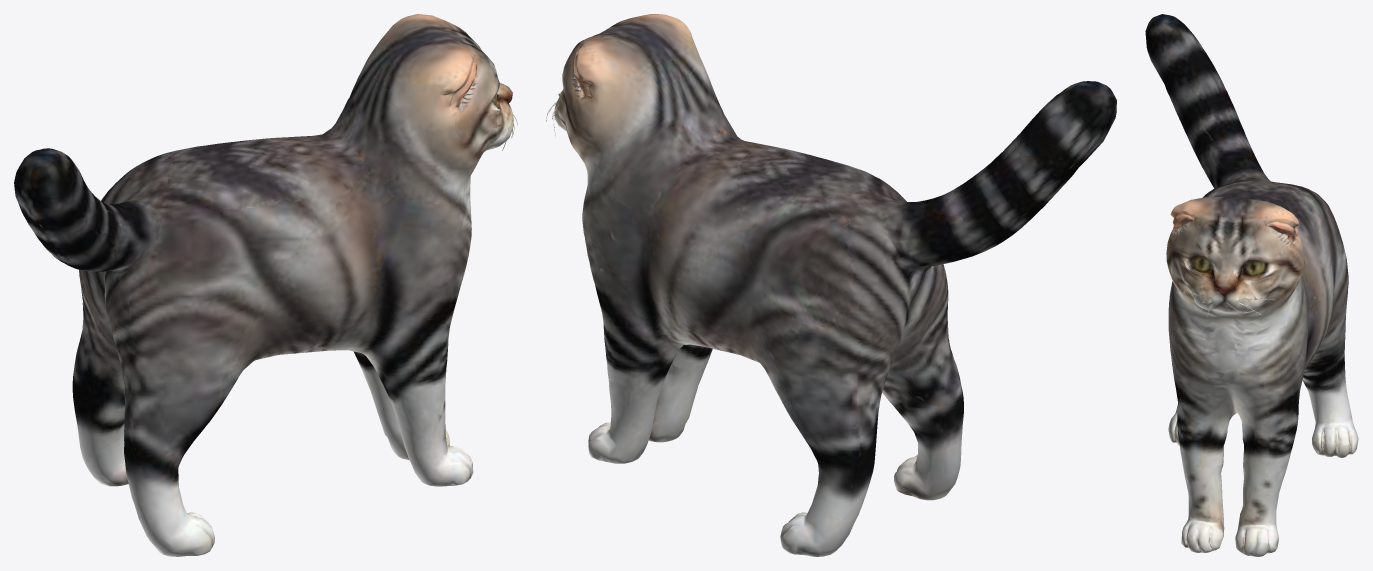
The model's file is MEREDITCAT-lo.glb.
The picture shows the model from 3 angles, left to right: view 1: azimuth 30°, elevation 25°; view 2: azimuth 150°, elevation 25°; view 3: azimuth 270°, elevation 25°; orthographic projection. The views are drawn at different scales.
Parts seen in each view (by area): view 1: fit; view 2: fit; view 3: fit.
Boxes of the visible parts, x1=… form: fit: x1=14, y1=14, x2=517, y2=556; fit: x1=546, y1=14, x2=1116, y2=556; fit: x1=1145, y1=14, x2=1358, y2=556.
Size of the model in its own units: 1.23 by 0.9969 by 0.533.
Materials: 1 (1 with a texture image).
